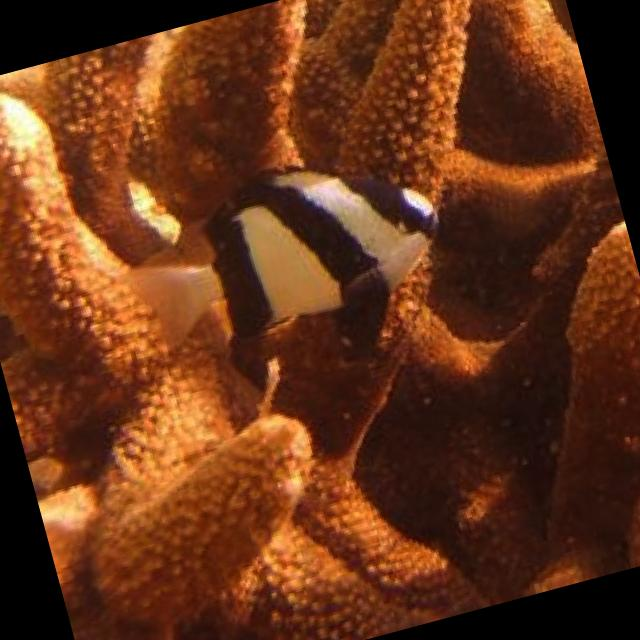Three_striped DasmselFish: (110, 132, 460, 378)
